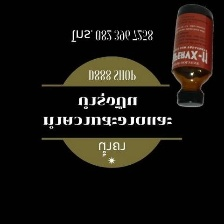book: (167, 0, 216, 108)
